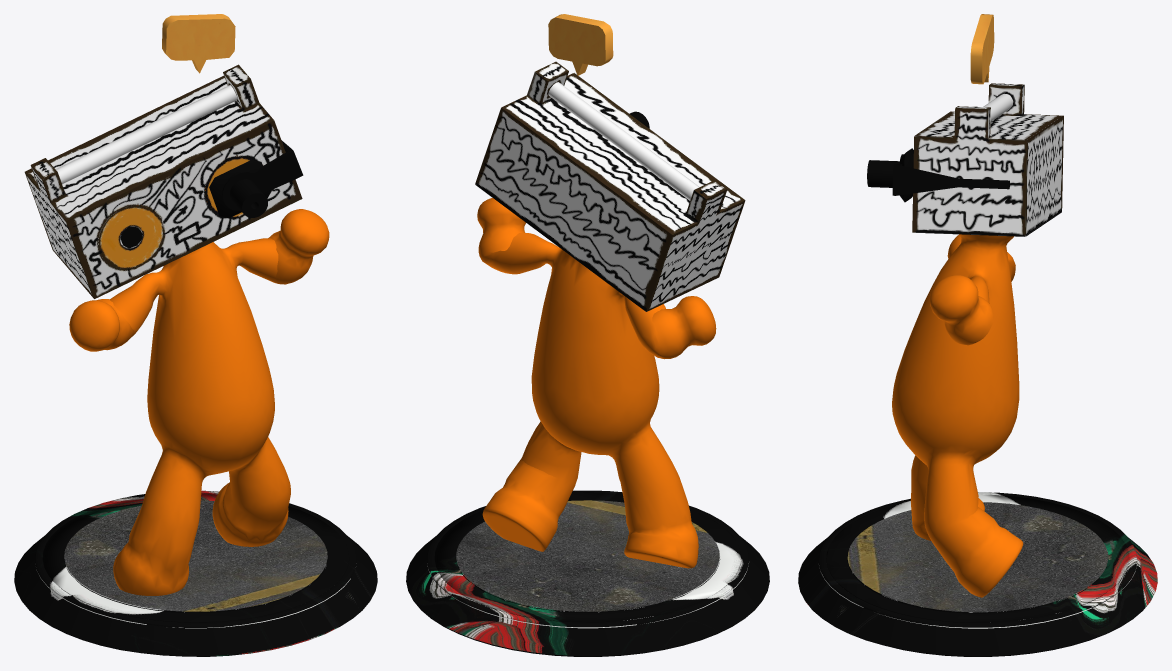
3 renders of one model, left to right at view 1: azimuth 30°, elevation 25°; view 2: azimuth 150°, elevation 25°; view 3: azimuth 270°, elevation 25°, orthographic.
Parts seen in each view (by area): view 1: BBody; view 2: BBody; view 3: BBody.
Boxes of the visible parts, box(x1,y1,x2,y2) form: BBody: box(14, 14, 377, 656); BBody: box(406, 14, 769, 656); BBody: box(798, 14, 1157, 656).
Bounding box in the file's own units: 1.45 × 2.48 × 1.45.
Materials: 6 (4 with a texture image).
